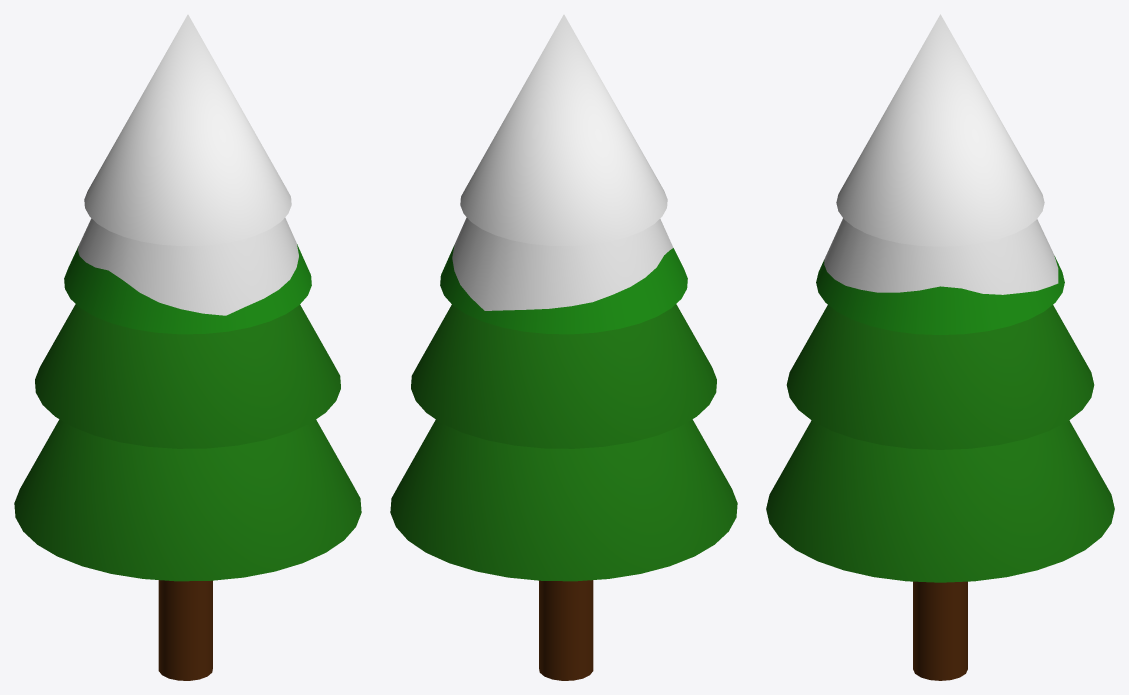
File: snow tree 3.fbx
3 renders of one model, left to right at view 1: azimuth 30°, elevation 25°; view 2: azimuth 150°, elevation 25°; view 3: azimuth 270°, elevation 25°, orthographic.
Parts seen in each view (by area): view 1: snow tree 3; view 2: snow tree 3; view 3: snow tree 3.
Part boxes in pixels (<box>): snow tree 3: <box>14,14,361,680</box>; snow tree 3: <box>390,14,737,680</box>; snow tree 3: <box>766,14,1114,680</box>.
Size of the model in its own units: 350 by 727 by 350.
